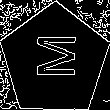M_W: (30, 37, 79, 84)
